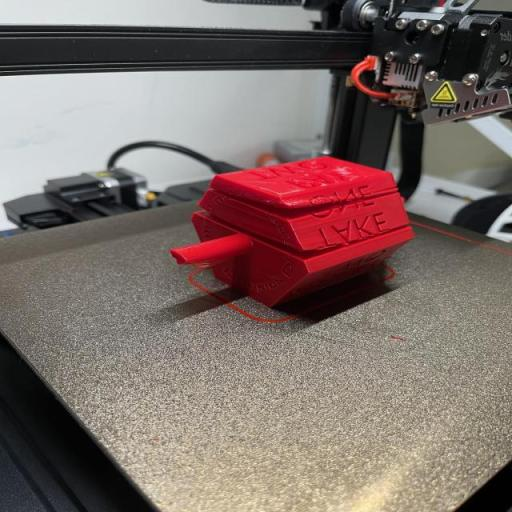cracks: (208, 181, 398, 217), (221, 223, 365, 269)
